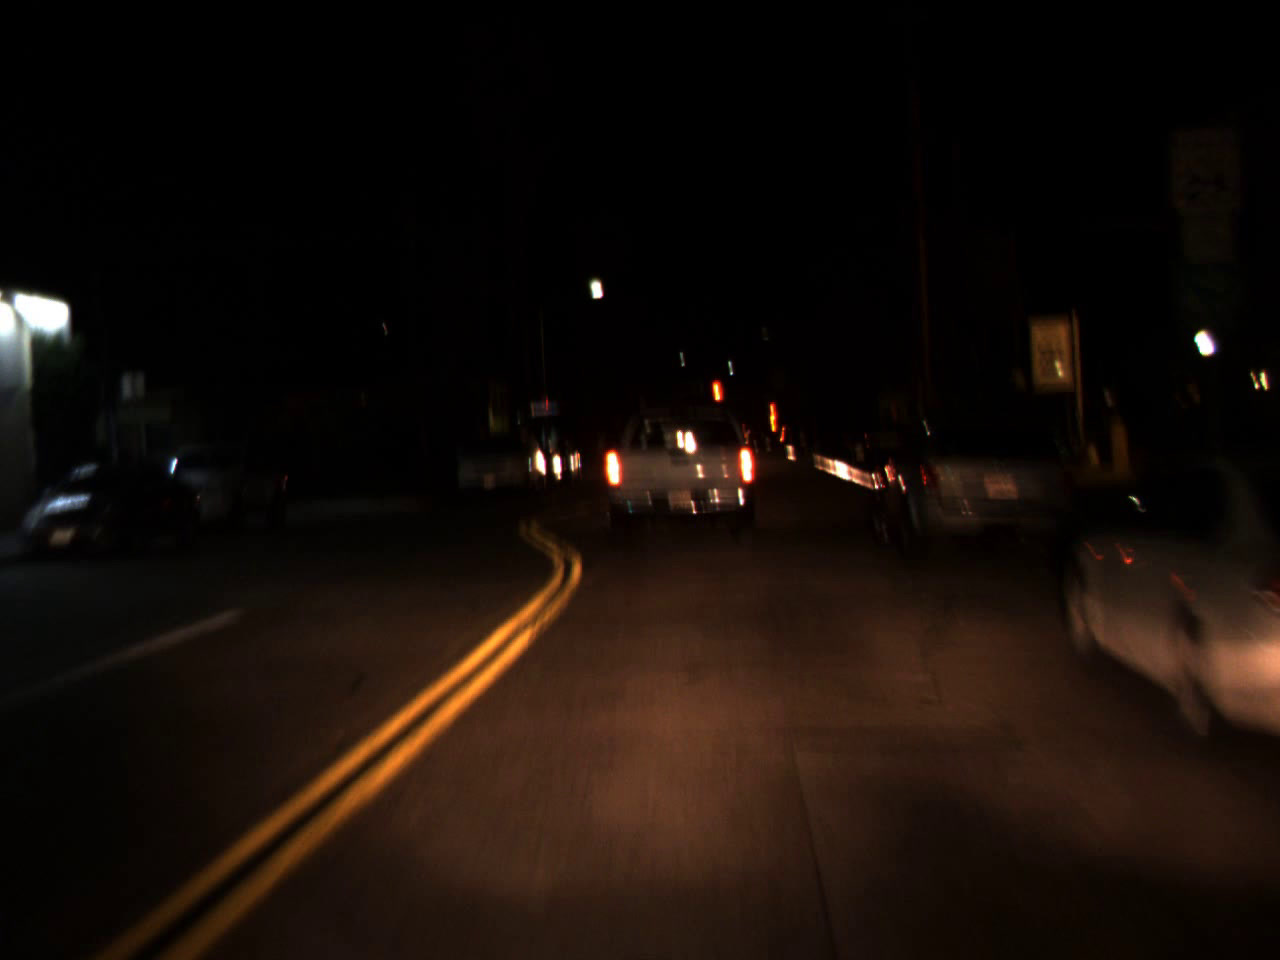stop: (709, 378, 724, 402), (765, 401, 780, 422)
